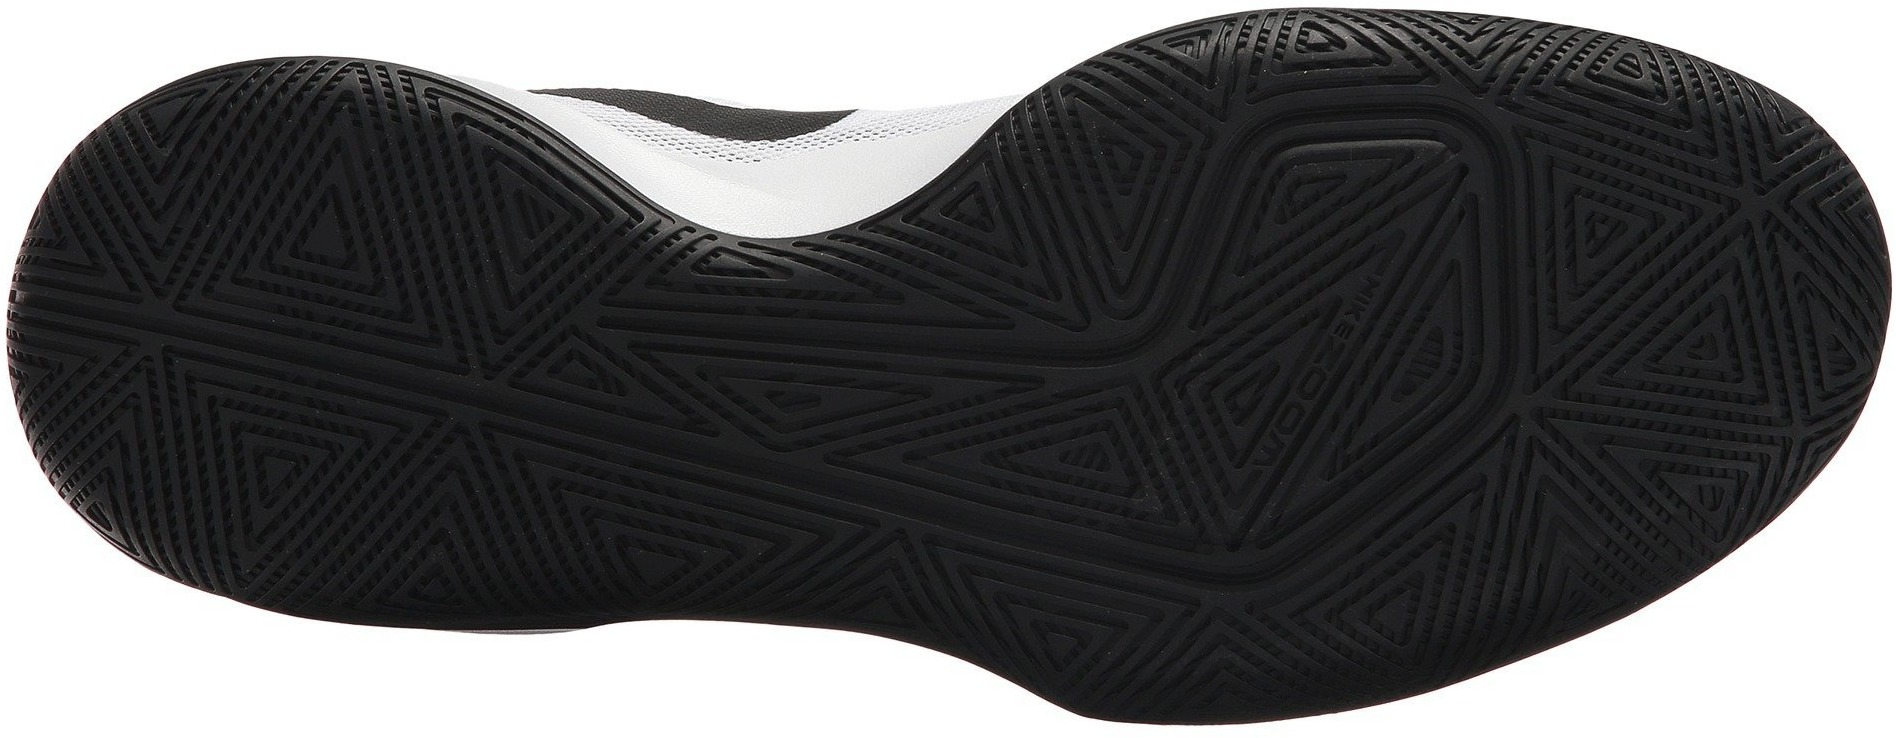triangle: (1289, 48, 1640, 352), (424, 237, 741, 509), (989, 131, 1282, 414), (1295, 367, 1580, 625), (981, 429, 1285, 669), (115, 121, 397, 379), (751, 246, 973, 482), (1649, 198, 1865, 409), (164, 394, 366, 581), (1592, 416, 1728, 554)
